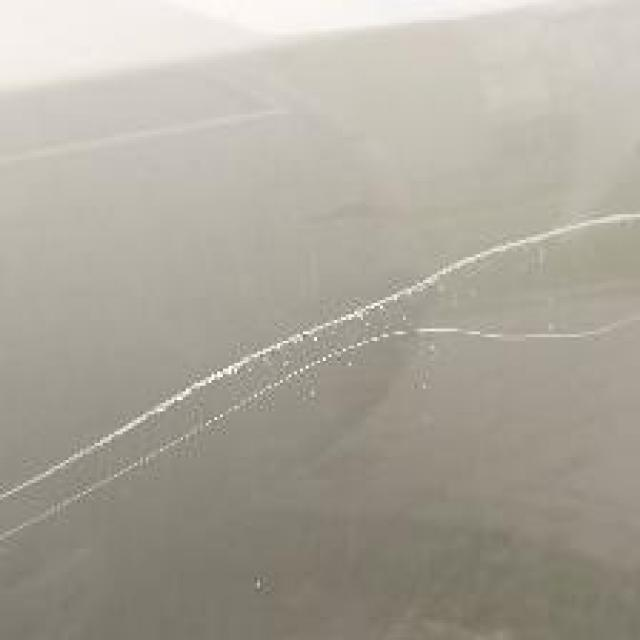damaged: (0, 212, 637, 548)
